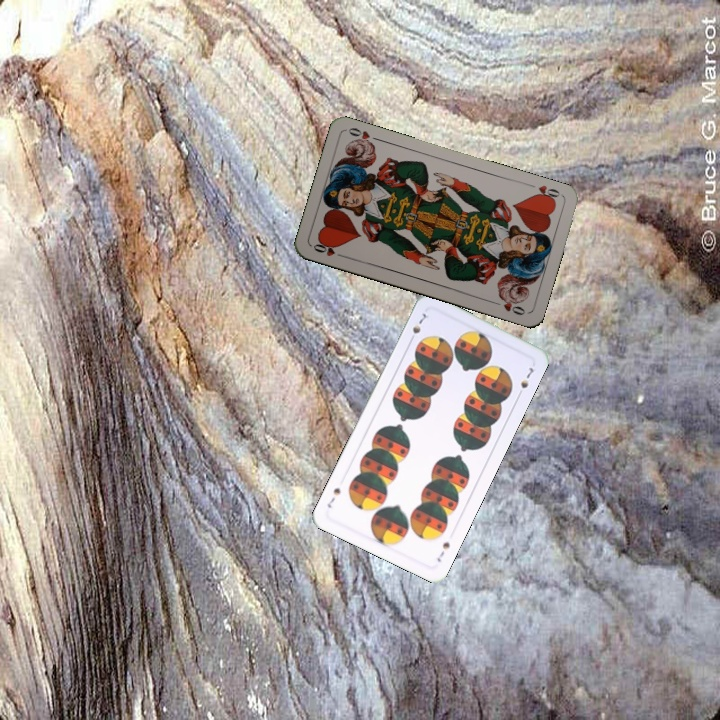HO: (309, 238, 348, 260), (530, 181, 564, 204)
S7: (405, 309, 430, 345), (433, 538, 452, 565)
